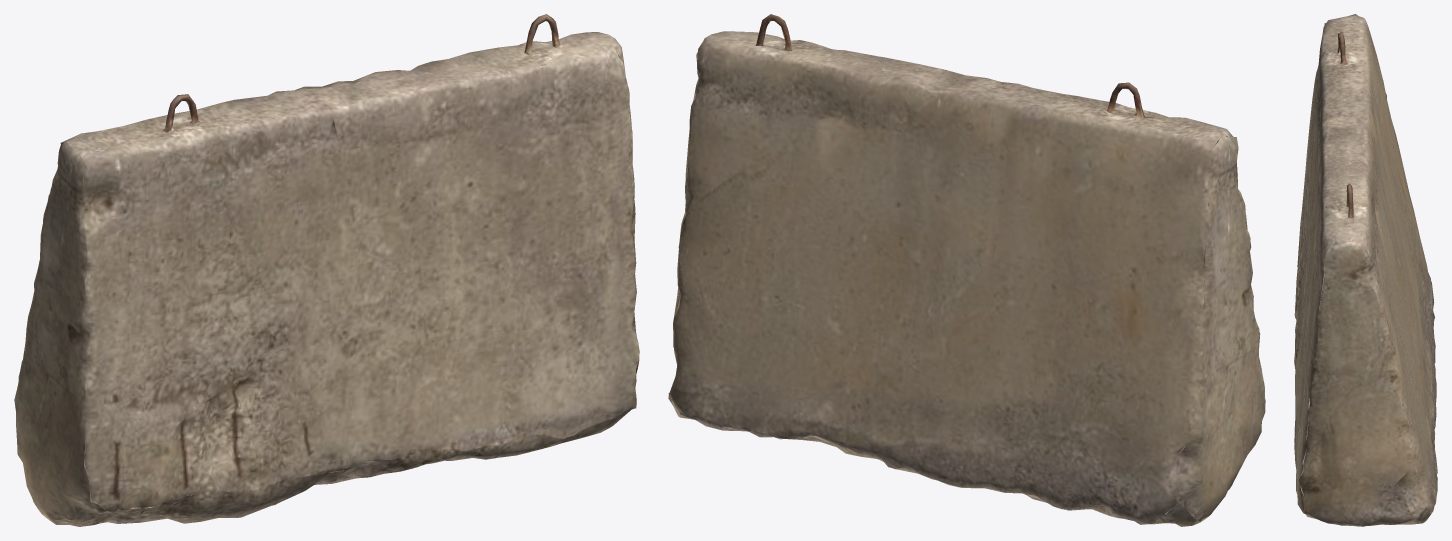
Rendered from concrete_road_barrier_02.gltf.
3 renders of one model, left to right at view 1: azimuth 30°, elevation 25°; view 2: azimuth 150°, elevation 25°; view 3: azimuth 270°, elevation 25°, orthographic. The views are drawn at different scales.
Parts seen in each view (by area): view 1: concrete_road_barrier_02; view 2: concrete_road_barrier_02; view 3: concrete_road_barrier_02.
Part boxes in pixels (bbox=[...]): concrete_road_barrier_02: bbox=[14, 14, 639, 526]; concrete_road_barrier_02: bbox=[668, 14, 1265, 526]; concrete_road_barrier_02: bbox=[1294, 14, 1437, 526].
Size of the model in its own units: 1.56 by 1.11 by 0.438.
Materials: 1 (1 with a texture image).
